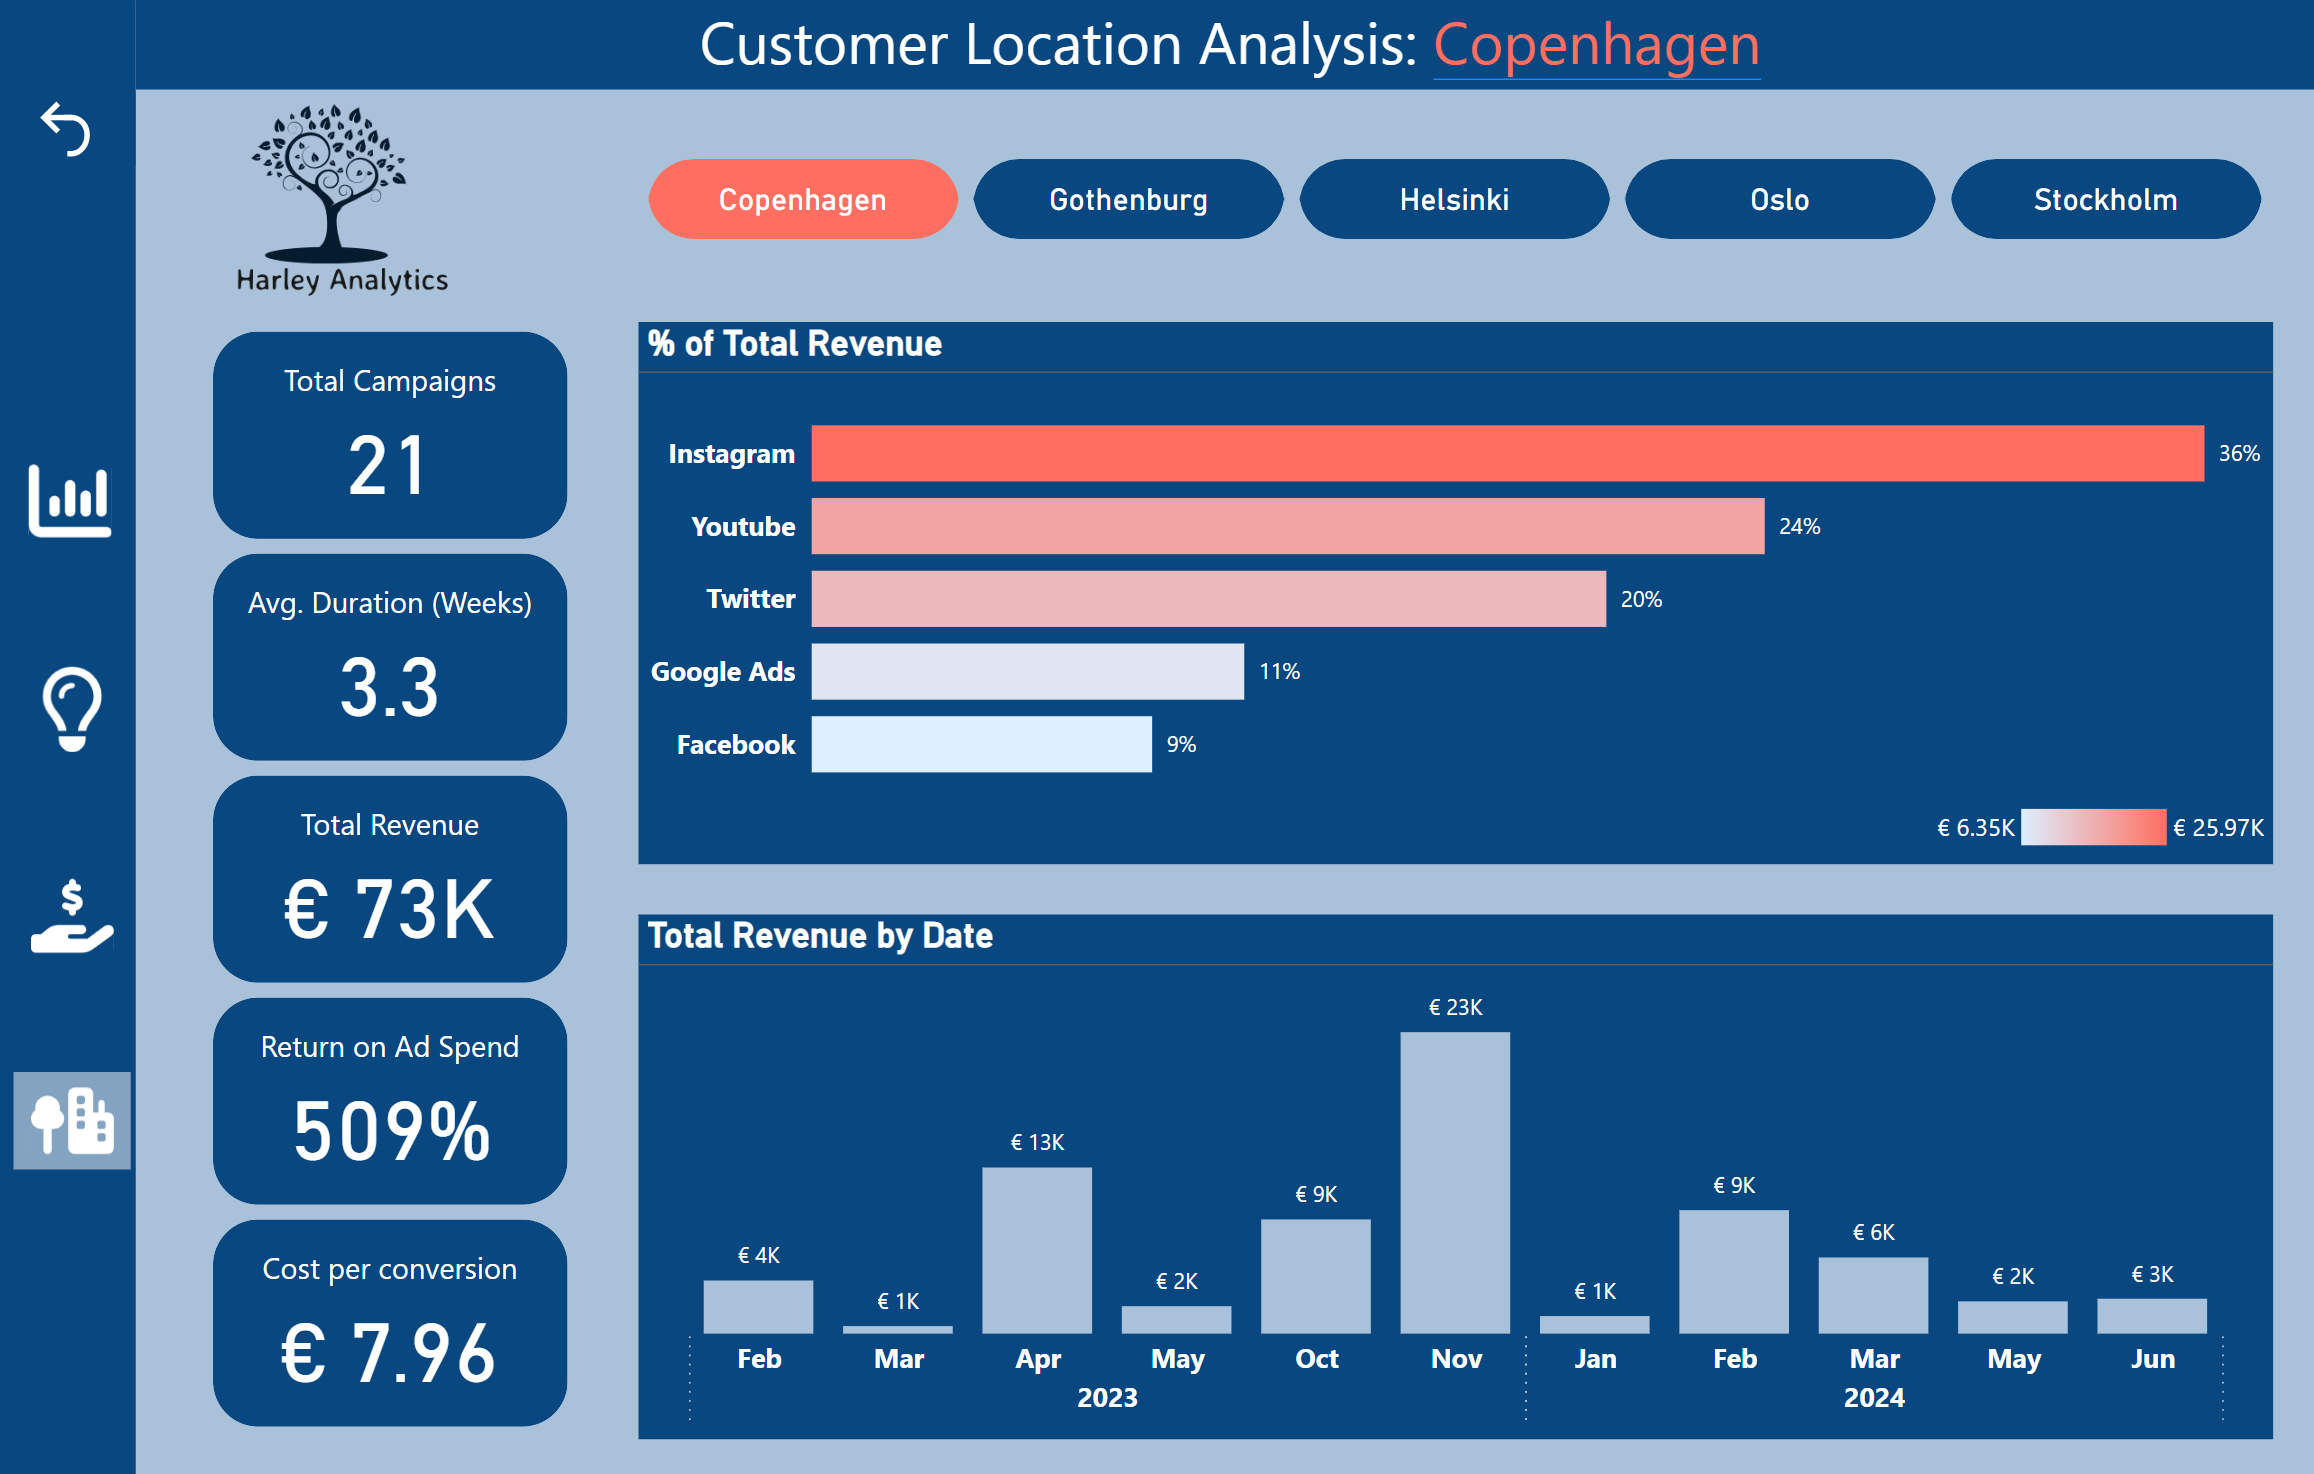

The dashboard page shown, as its layout file describes it:
{"tool":"powerbi","page":{"name":"Customer Location Analysis","canvas":[1280,820],"ordinal":3},"visuals":[{"type":"cardVisual","fields":{"Data":["CountNonNull(Marketing_data.Campaign_ID)","DAX Measures.Avg. Campaign Duration","DAX Measures.Total Revenue","DAX Measures.Overall ROAS","DAX Measures.Total Cost per conversion"]},"box":[114.1,180.9,205.9,615],"z":0},{"type":"barChart","title":"% of Total Revenue","fields":{"Y":["DAX Measures.Total Revenue"],"Category":["Marketing_data.Platform"]},"box":[353.1,181.4,533.1,298.2],"z":1000},{"type":"advancedSlicerVisual","fields":{"Values":["Marketing_data.City"]},"box":[353.1,86.6,898.6,55],"z":2000},{"type":"shape","title":"Sidebar","box":[0,0,76.9,820.3],"z":3000},{"type":"textbox","box":[76.6,0,1203.1,53.5],"z":4000},{"type":"actionButton","box":[0,54.9,76.6,40.5],"z":5000},{"type":"image","title":"Company Logo","box":[114,52.2,153.9,123.7],"z":6000},{"type":"actionButton","title":"Campaigns Button","box":[10.1,479.5,64.6,53.6],"z":7000},{"type":"actionButton","title":"Insights button","box":[10.1,365.8,64.6,55],"z":8000},{"type":"actionButton","title":"Platform Button","box":[10,253.2,64.8,53.8],"z":9000},{"type":"columnChart","fields":{"Y":["DAX Measures.Total Revenue"],"Category":["Date Table.Date Hierarchy.Year","Date Table.Date Hierarchy.Month"]},"box":[353.1,507,533.1,288.5],"z":10000}]}

Visuals, with their boxes in screenshot pixels (x1, y1, x2, y2), scaled from the page's 1280x820 canvas onto the 2314x1474 screenshot:
cardVisual - CountNonNull(Marketing_data.Campaign_ID) x DAX Measures.Avg. Campaign Duration: [206, 325, 578, 1431]
"% of Total Revenue" barChart: [638, 326, 1602, 862]
advancedSlicerVisual - Marketing_data.City: [638, 156, 2263, 255]
"Sidebar" shape: [0, 0, 139, 1473]
textbox: [138, 0, 2313, 96]
actionButton: [0, 99, 138, 171]
"Company Logo" image: [206, 94, 484, 316]
"Campaigns Button" actionButton: [18, 862, 135, 958]
"Insights button" actionButton: [18, 658, 135, 756]
"Platform Button" actionButton: [18, 455, 135, 552]
columnChart - DAX Measures.Total Revenue x Date Table.Date Hierarchy.Year: [638, 911, 1602, 1430]
